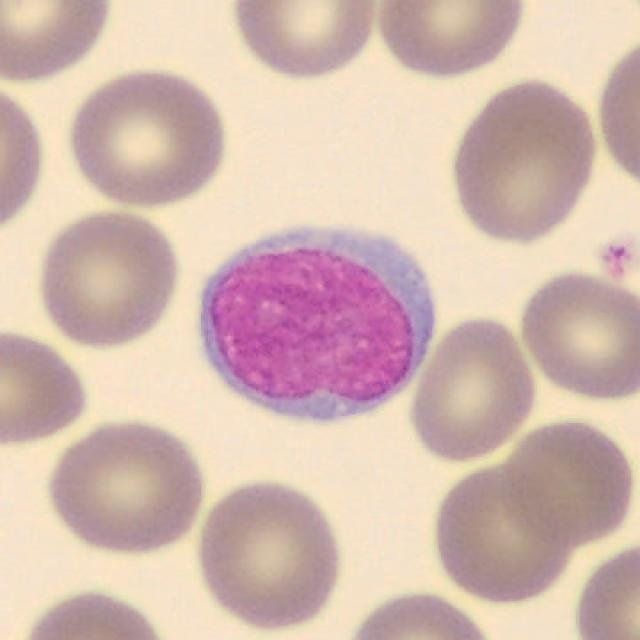Linfocito: (198, 221, 436, 423)
